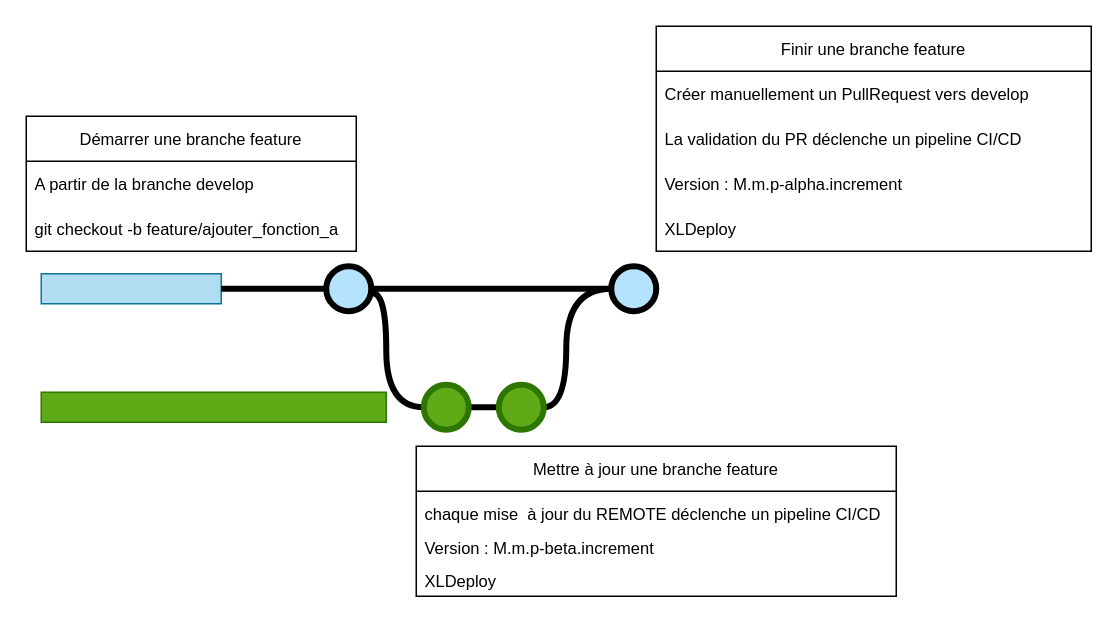
The diagram is 1118 pixels wide and 623 high, and some of its shapes have lost their labels. Here are the shapes that lost their labels. From the top down, the centre of each, then its label:
[130,288]: develop
[213,406]: feature/ajouter_fonction_a
